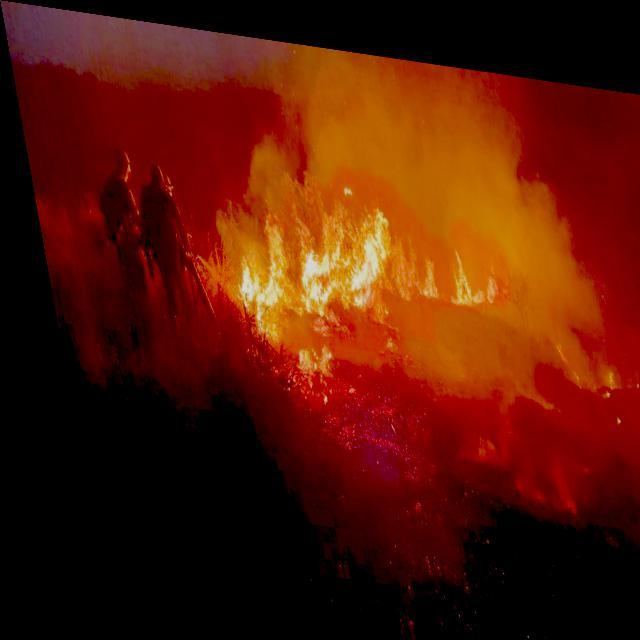Fire: (209, 200, 502, 344), (280, 327, 324, 373), (596, 350, 606, 374)
